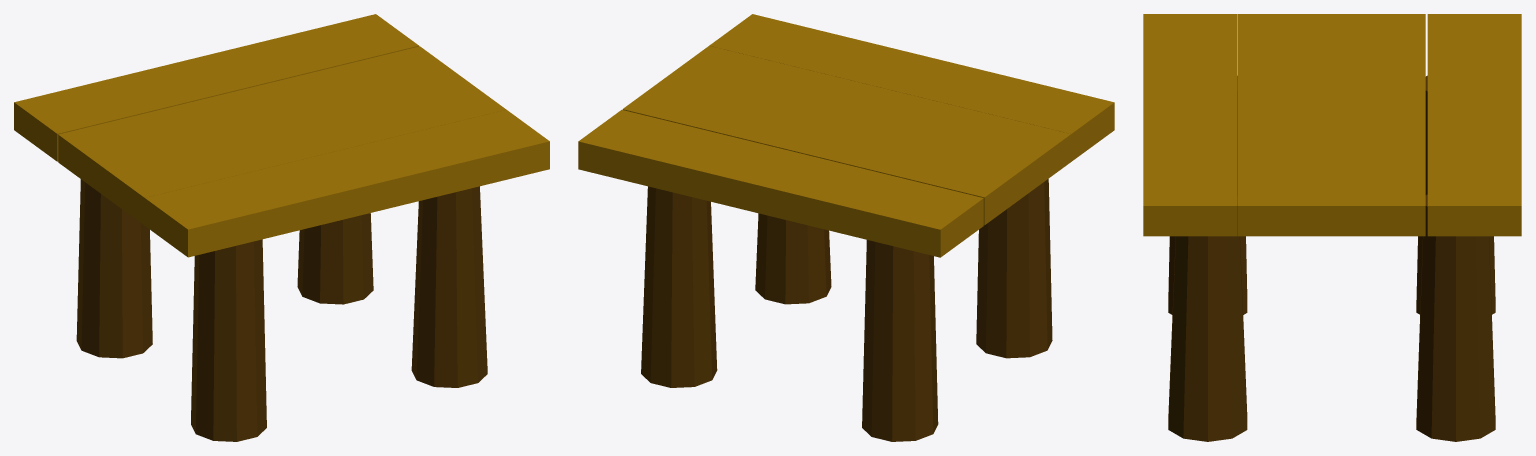
Rendered from chair wood1.fbx.
The picture shows the model from 3 angles, left to right: view 1: azimuth 30°, elevation 25°; view 2: azimuth 150°, elevation 25°; view 3: azimuth 270°, elevation 25°; orthographic projection. The views are drawn at different scales.
Visible parts, largest first — view 1: pCylinder85; view 2: pCylinder85; view 3: pCylinder85.
Part boxes in pixels (x1,y1,x2,y2): pCylinder85: (14,14,549,441); pCylinder85: (578,14,1114,441); pCylinder85: (1143,14,1521,441).
Bounding box in the file's own units: 1.12 × 0.6961 × 0.9323.
